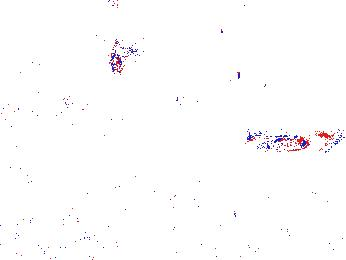X-ray fish: (55, 83, 103, 129), (108, 33, 146, 78)
red belly glassfish: (243, 127, 310, 154)
